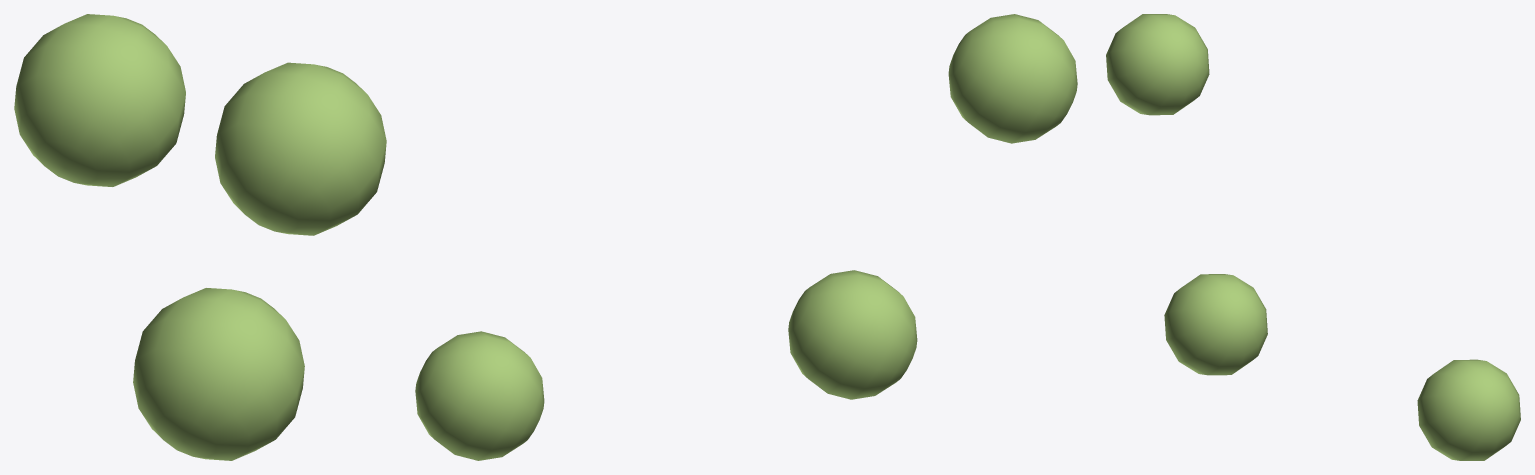
Rendered from superficial-parotid-nodes-r.glb.
The picture shows the model from 3 angles, left to right: view 1: azimuth 30°, elevation 25°; view 2: azimuth 150°, elevation 25°; view 3: azimuth 270°, elevation 25°; orthographic projection. The views are drawn at different scales.
Visible parts, largest first — view 1: Superficial parotid nodes.r; view 2: Superficial parotid nodes.r; view 3: Superficial parotid nodes.r.
Part boxes in pixels (<box>): Superficial parotid nodes.r: <box>14,14,386,460</box>; Superficial parotid nodes.r: <box>415,14,1077,460</box>; Superficial parotid nodes.r: <box>1106,14,1520,460</box>.
Bounding box in the file's own units: 0.0105 × 0.00832 × 0.0102.
